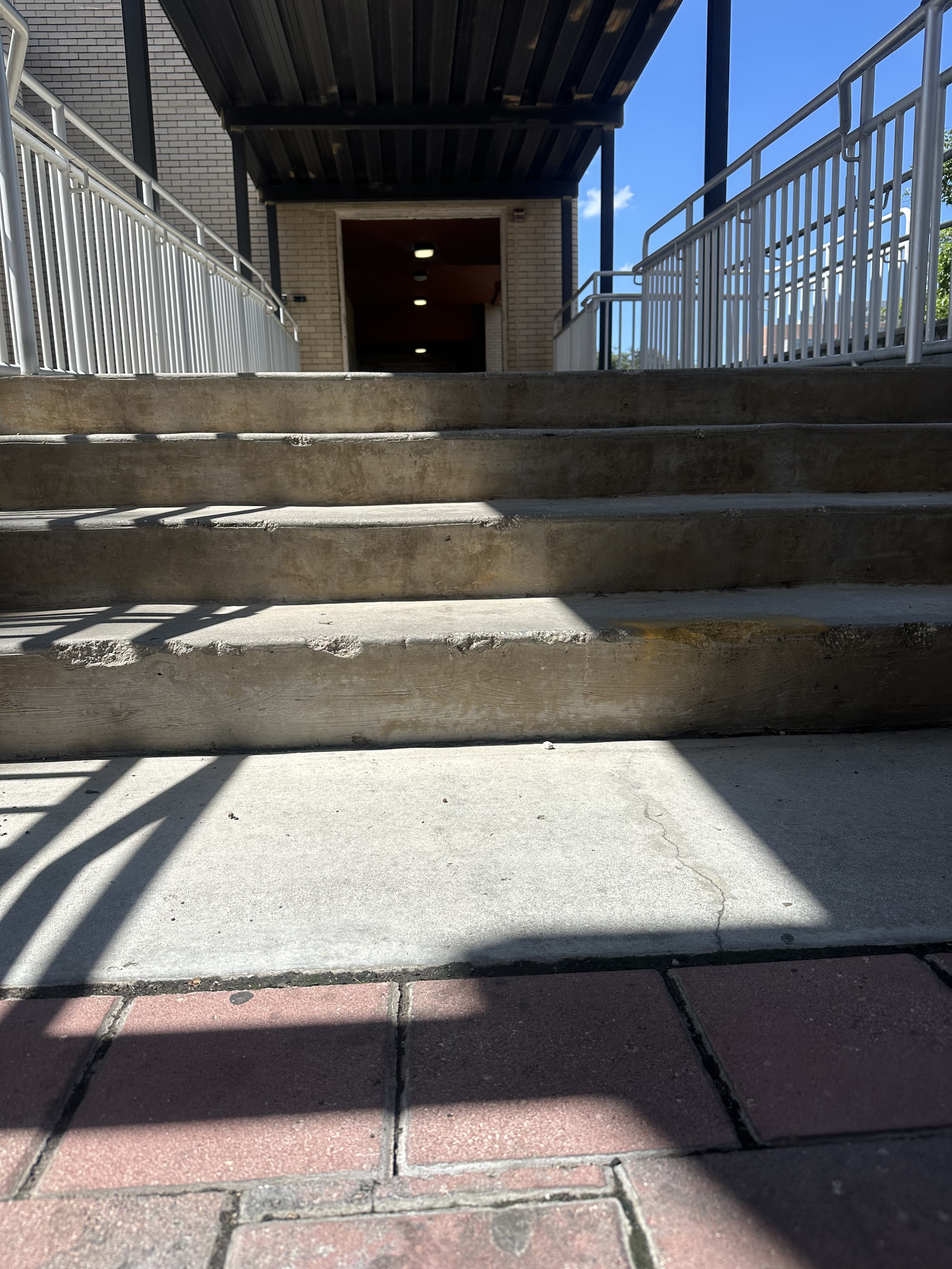stairs: (2, 363, 951, 759)
